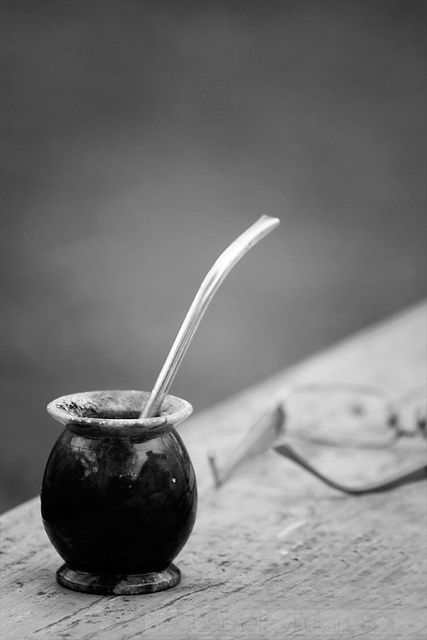calabaza: (38, 376, 200, 605)
mate: (40, 378, 202, 607)
